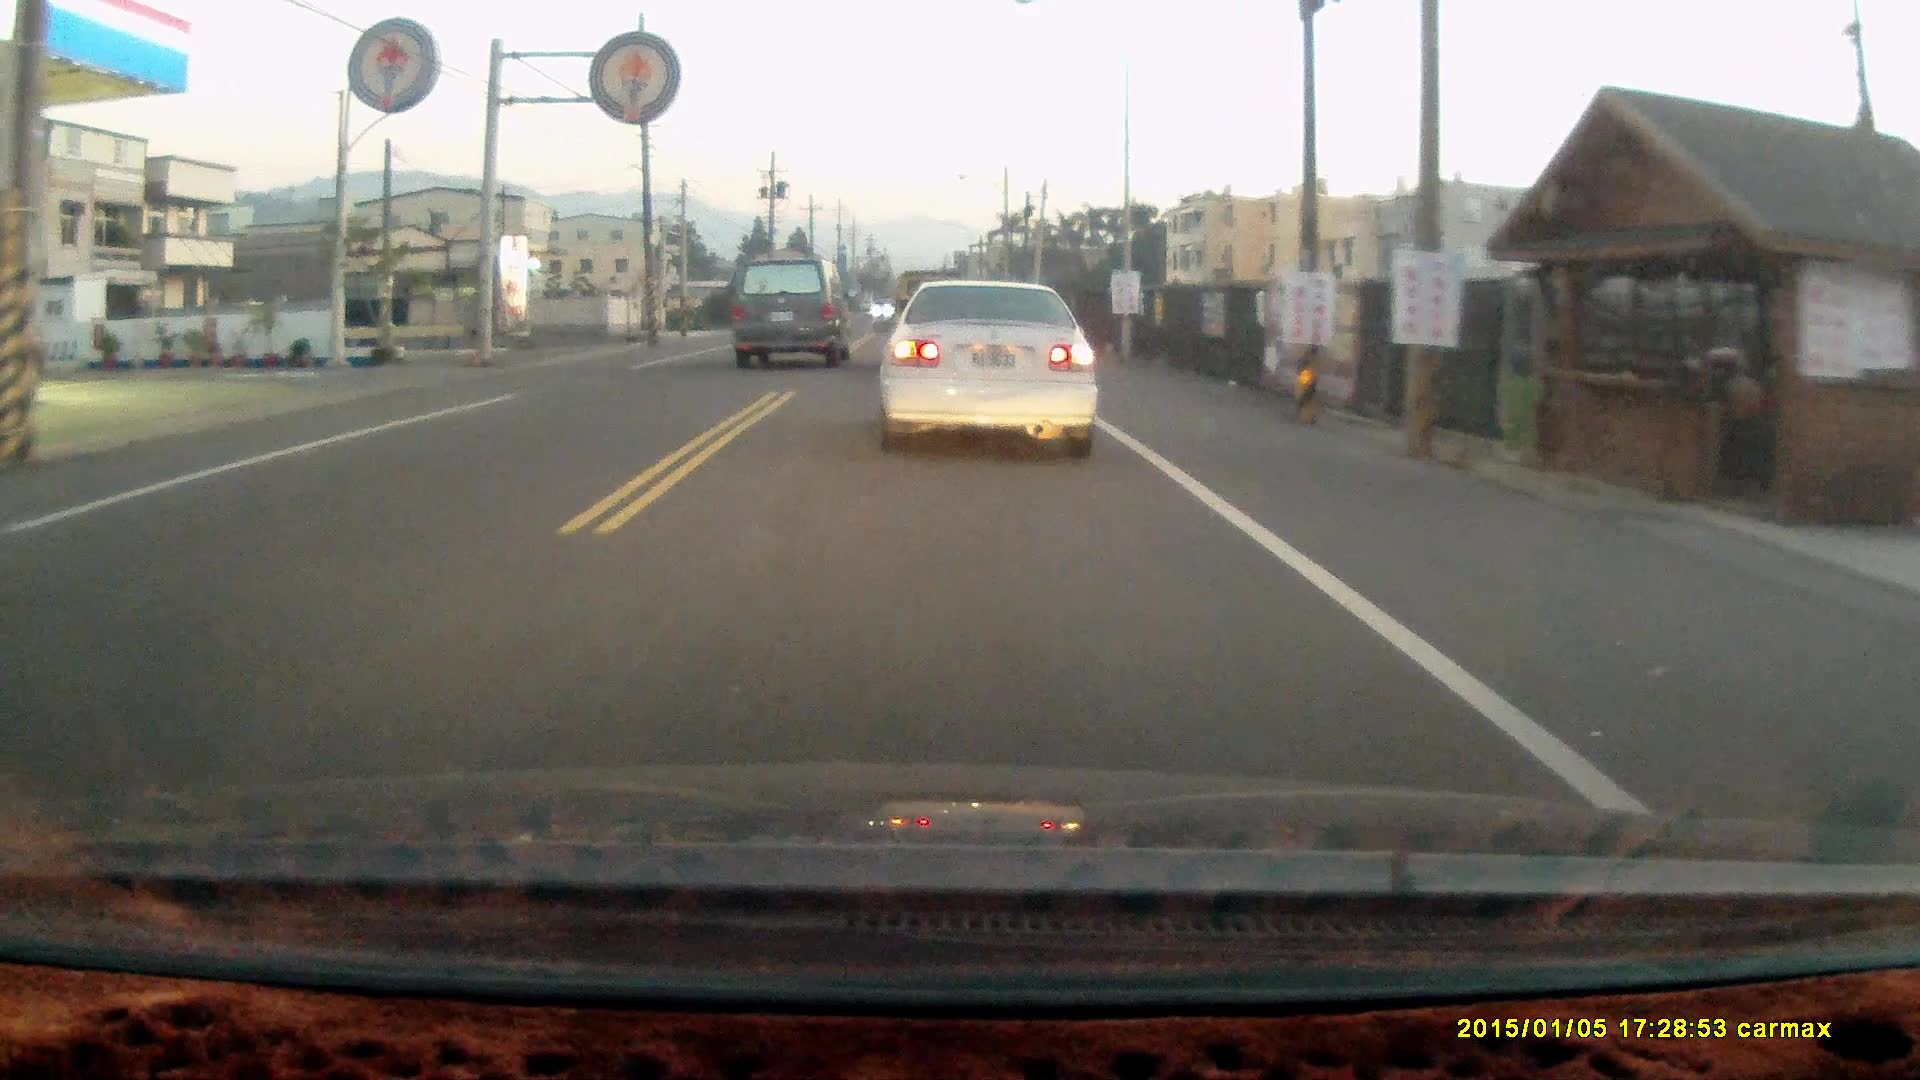pedestrian: (1703, 344, 1763, 465)
vehicle: (873, 276, 1100, 464), (725, 253, 852, 372)
